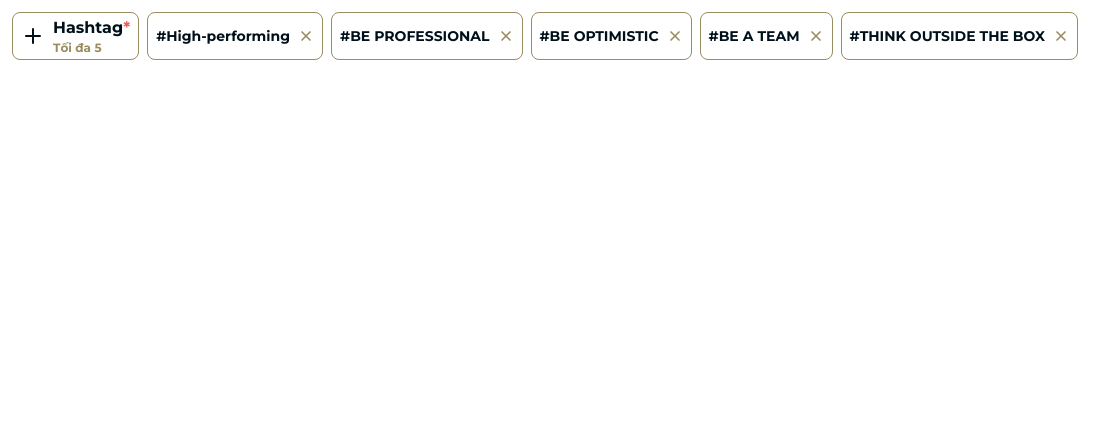
it: HashtagField (F006 FR-008, SC-002) › disables unselected options once 5 are chosen (cap)
Click the button "Hashtag* Tối đa 5" at (76,36), box [12,12,139,60]
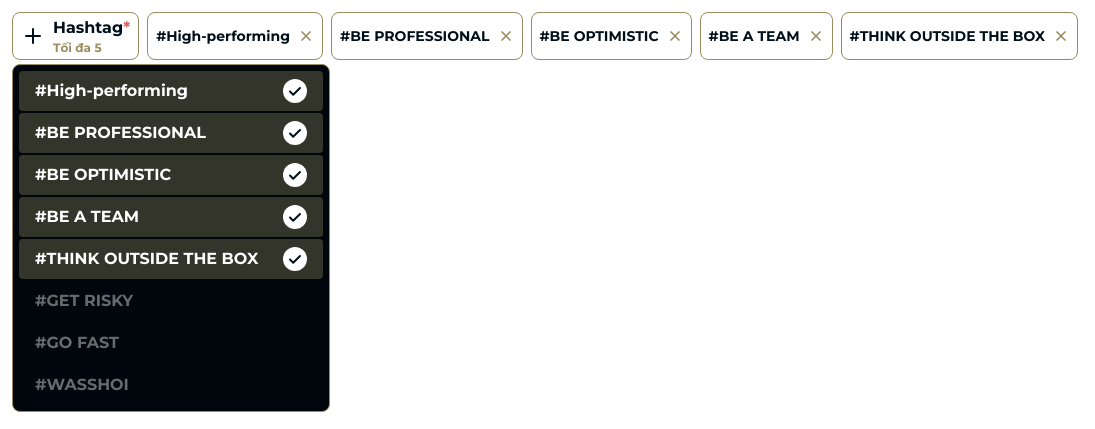
Check: the button "#High-performing" is enabled, box [19,71,323,111]
Check: the button "#GET RISKY" is disabled, box [19,281,323,321]
